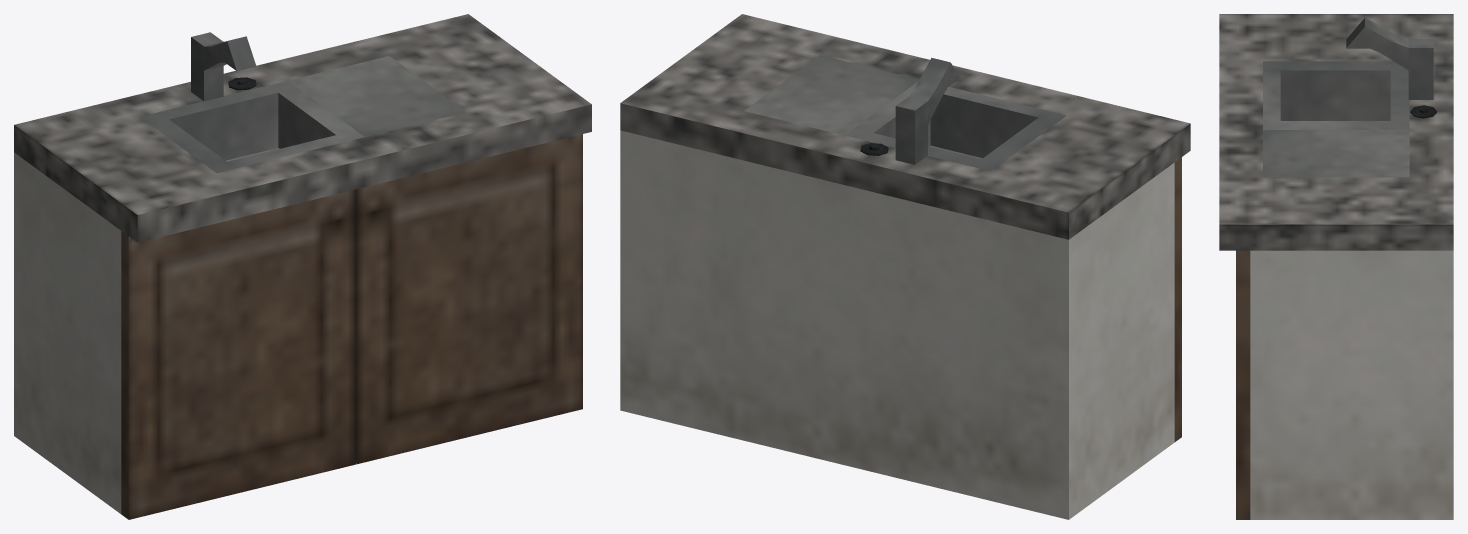
Rendered from SM_EC_Sink_Complete_0.fbx.
3 views of the same model, side by side, from view 1: azimuth 30°, elevation 25°; view 2: azimuth 150°, elevation 25°; view 3: azimuth 270°, elevation 25° (orthographic). The views are drawn at different scales.
Visible parts, largest first — view 1: SM_EC_Sink_Complete_0, SM_EC_CupboardDoor_7.004, SM_EC_CupboardDoor_7.005; view 2: SM_EC_Sink_Complete_0, SM_EC_CupboardDoor_7.004; view 3: SM_EC_Sink_Complete_0, SM_EC_CupboardDoor_7.005, SM_EC_Sink_Plug_0.
Part boxes in pixels (x1,y1,x2,y2): SM_EC_Sink_Complete_0: (14, 14, 591, 513); SM_EC_CupboardDoor_7.004: (121, 189, 355, 519); SM_EC_CupboardDoor_7.005: (355, 134, 582, 464); SM_EC_Sink_Complete_0: (620, 14, 1190, 519); SM_EC_CupboardDoor_7.004: (1174, 157, 1181, 441); SM_EC_Sink_Complete_0: (1219, 14, 1453, 519); SM_EC_CupboardDoor_7.005: (1236, 250, 1250, 519); SM_EC_Sink_Plug_0: (1410, 105, 1436, 118).
Size of the model in its own units: 1.73 by 0.8121 by 1.41.
